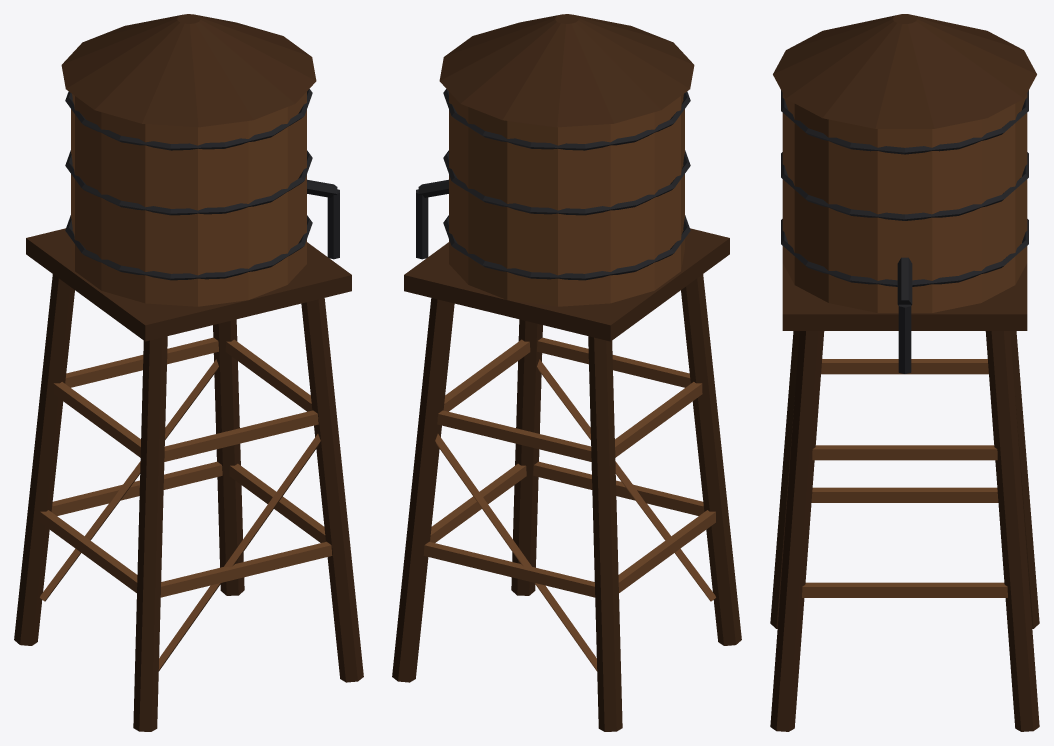
The model's file is SM_Water_Tower.obj.
3 views of the same model, side by side, from view 1: azimuth 30°, elevation 25°; view 2: azimuth 150°, elevation 25°; view 3: azimuth 270°, elevation 25° (orthographic). The views are drawn at different scales.
Visible parts, largest first — view 1: SM_Water_Tower; view 2: SM_Water_Tower; view 3: SM_Water_Tower.
Boxes of the visible parts, x1,y1,x2,y2 form: SM_Water_Tower: (14, 14, 363, 731); SM_Water_Tower: (392, 14, 741, 731); SM_Water_Tower: (770, 14, 1039, 731).
Bounding box in the file's own units: 2.55 × 5.93 × 2.2.
